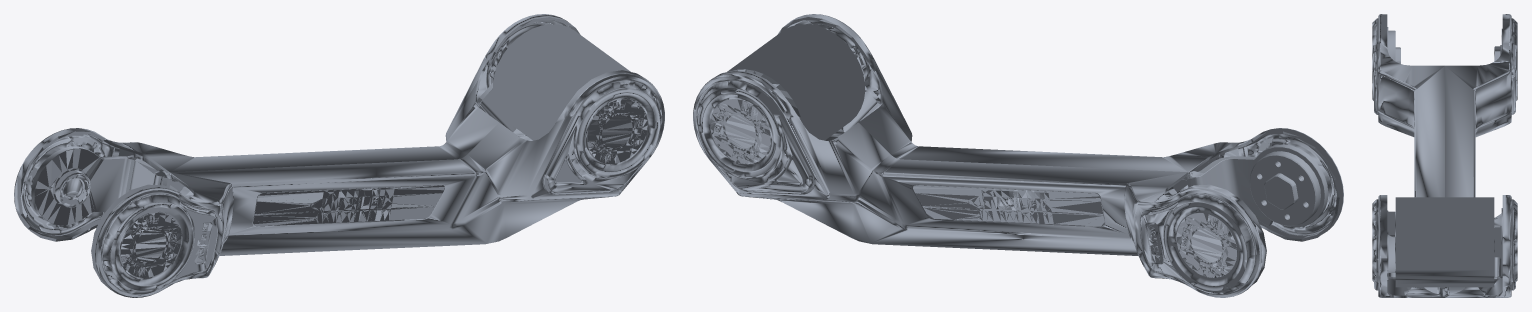
3 views of the same model, side by side, from view 1: azimuth 30°, elevation 25°; view 2: azimuth 150°, elevation 25°; view 3: azimuth 270°, elevation 25° (orthographic). The views are drawn at different scales.
Size of the model in its own units: 0.348 by 0.0965 by 0.097.
